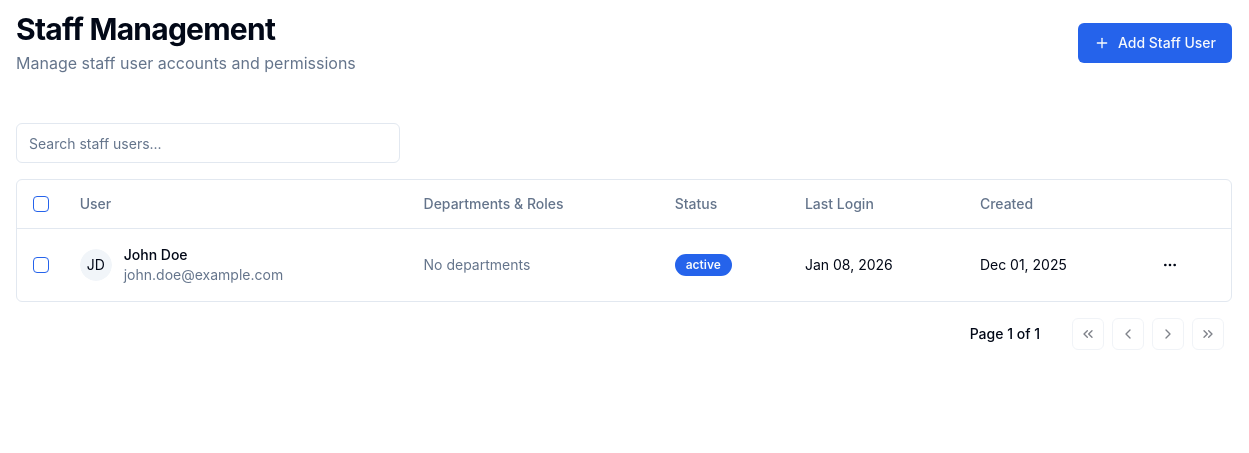
Scenario: UserManagementPage › User Actions › should display action menu for each user
Click the button named "open menu" in the row of "JD". click: (1170, 264)
box: [1154,248,1186,280]
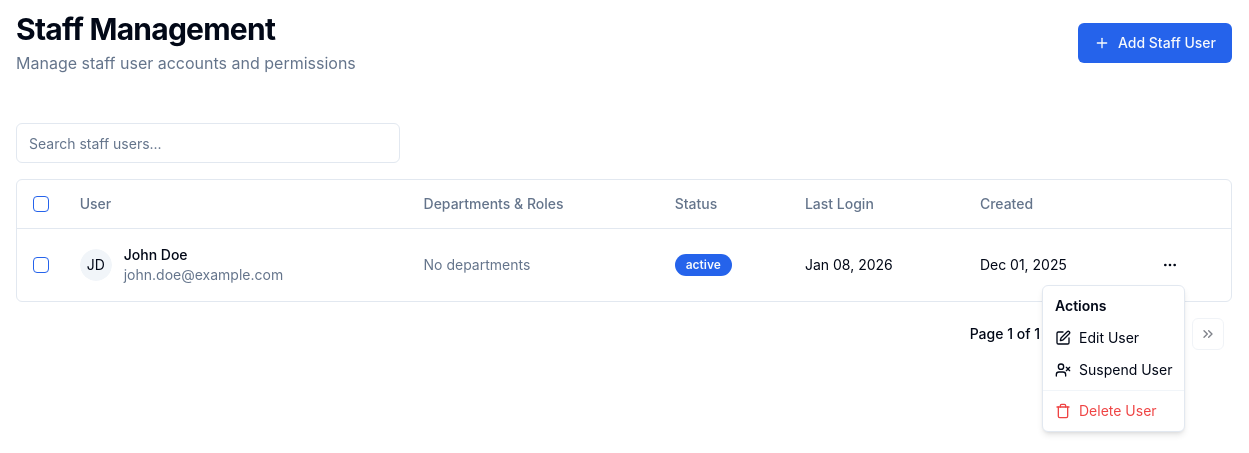
Result: the menu item "Edit User" is shown at [1055,329,1139,346]
Result: the menu item "Delete User" is shown at [1055,402,1157,419]
